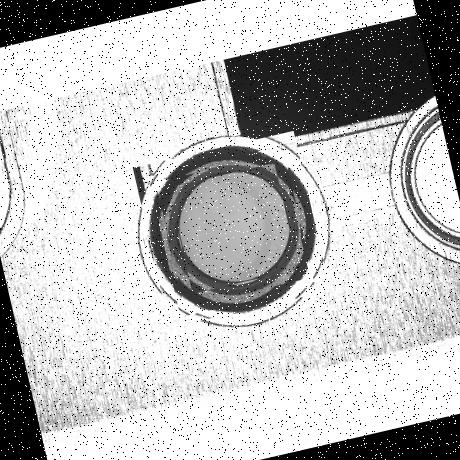Hole: (132, 130, 330, 328)
Hole2: (148, 145, 314, 316)
Hole3: (154, 152, 310, 307)
Hole4: (166, 163, 298, 294)
